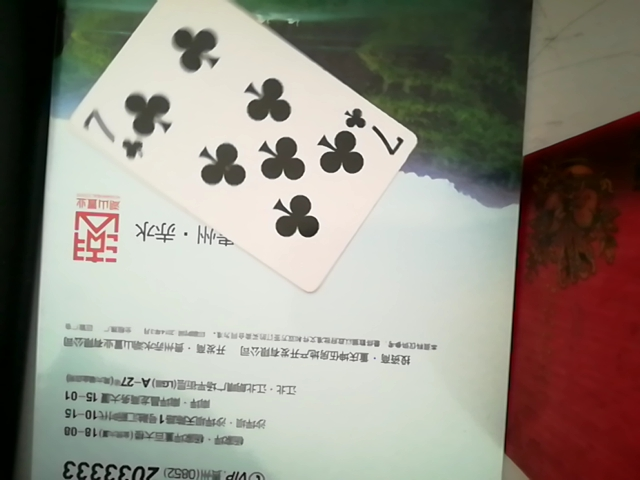mh 7: (65, 0, 418, 284)
